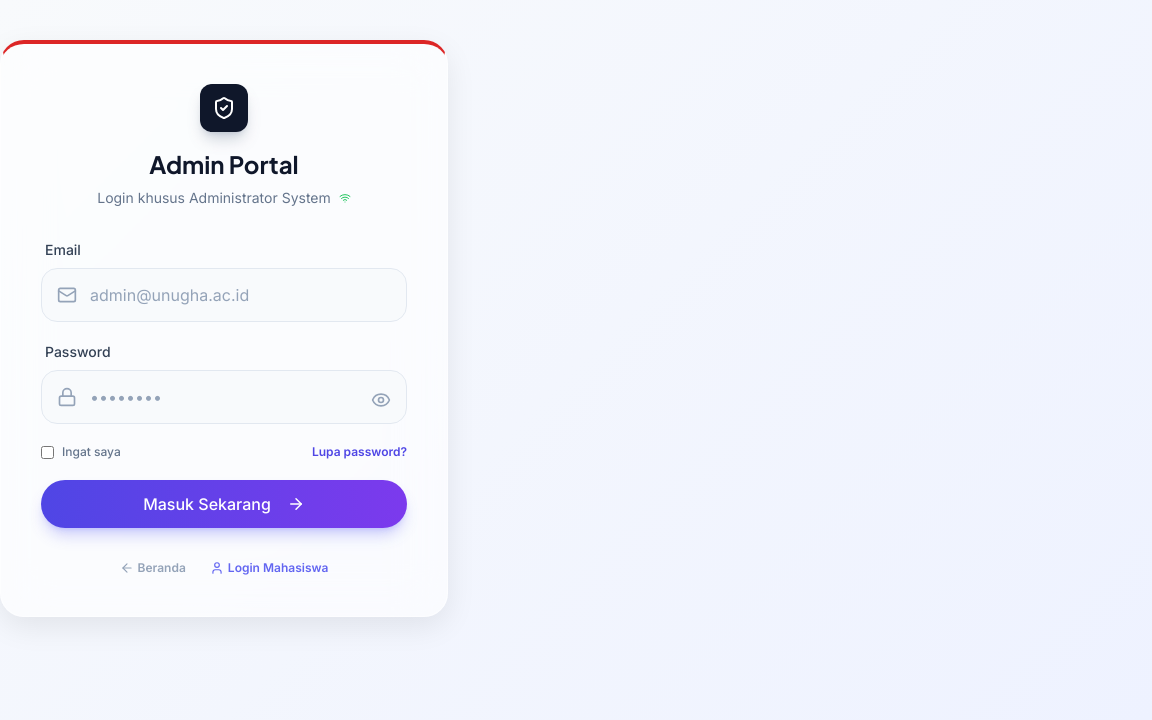
Test: Login Page › handles admin only mode restriction
Expected: the heading "Admin Portal" is shown, 149,149 -> 299,179
In the field labelled "Email": (224, 295) 41,268 -> 407,322, type "admin@test.com"
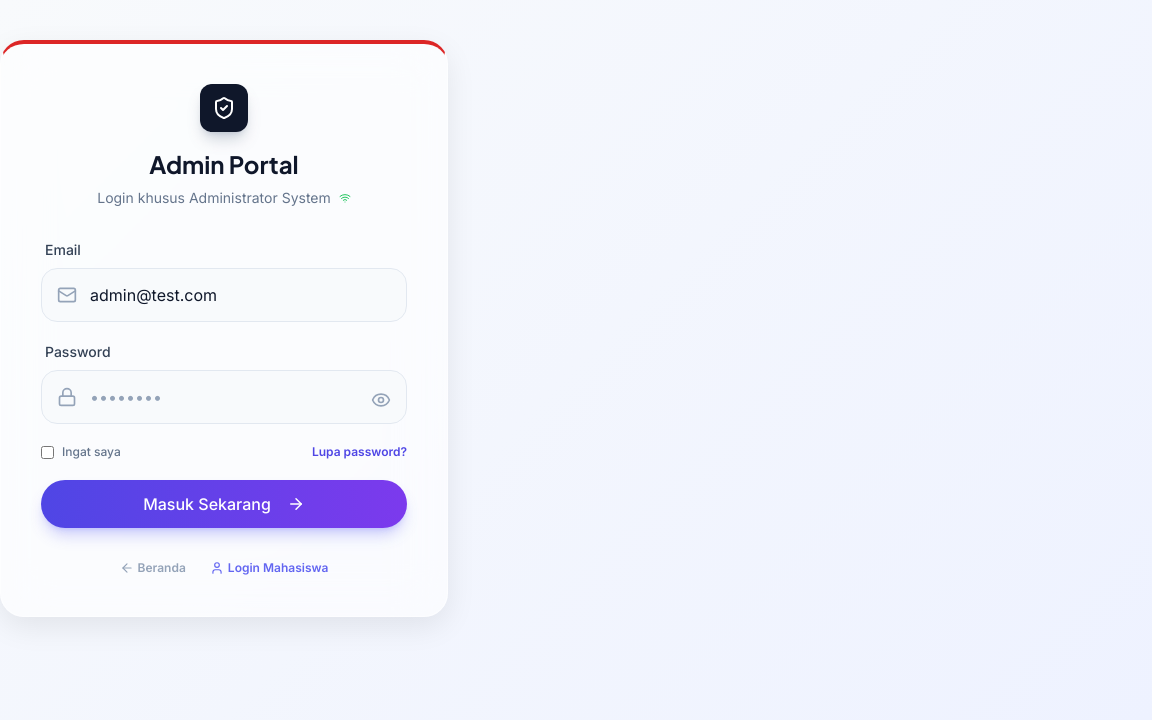
In the password field labelled "Password": (224, 397) 41,370 -> 407,424, type "pass"
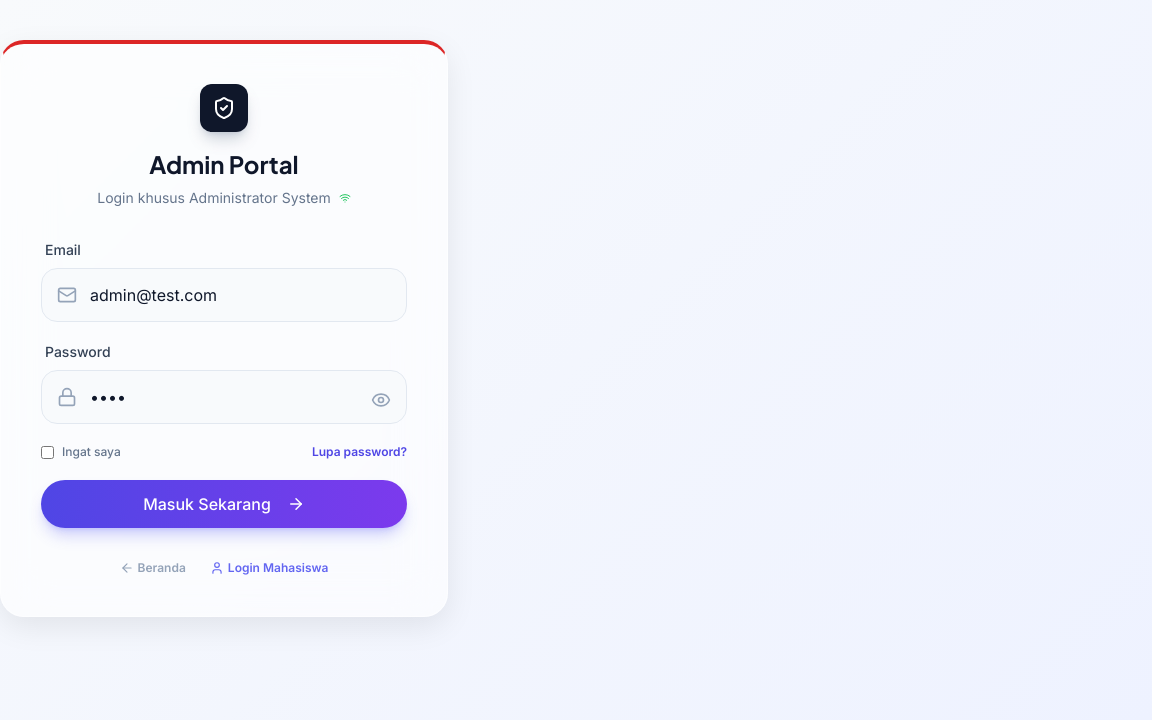
Click the button "Masuk Sekarang": (224, 504) 41,480 -> 407,528
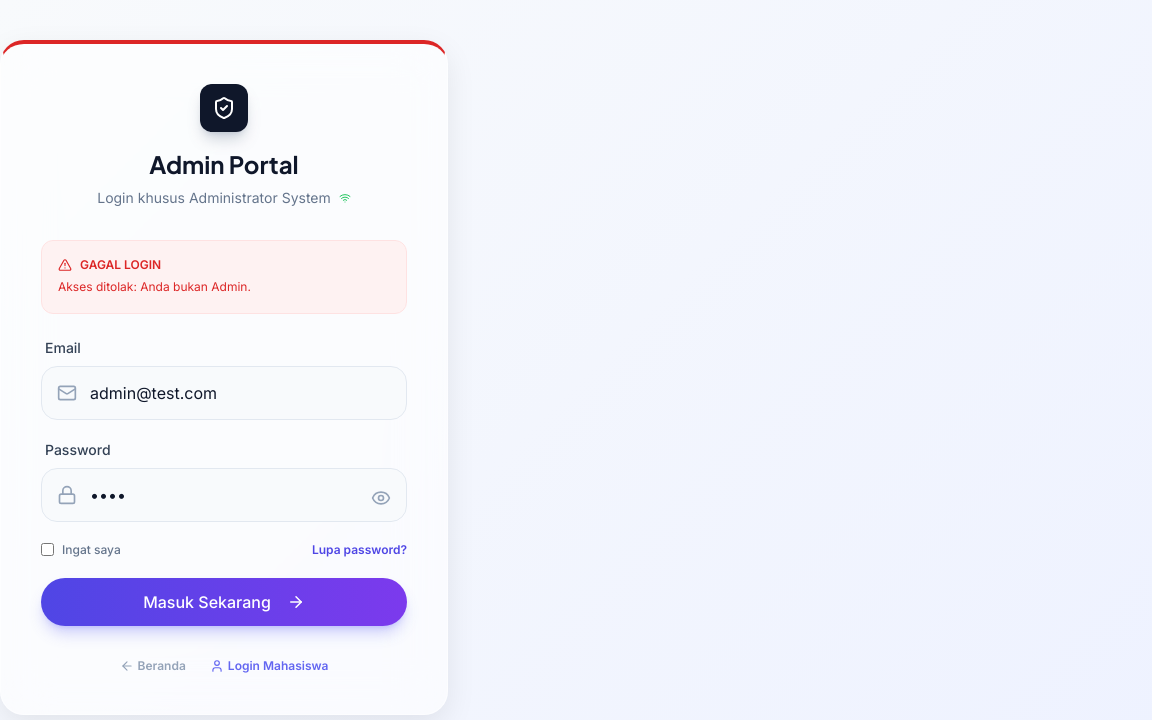
Result: the text "Akses ditolak: Anda bukan Admin." is shown at 58,279 -> 251,294
